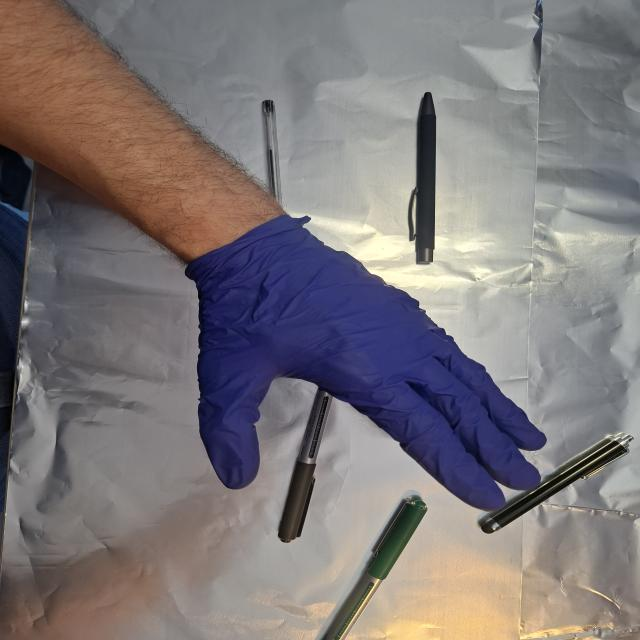glove_on: (189, 213, 552, 513)
